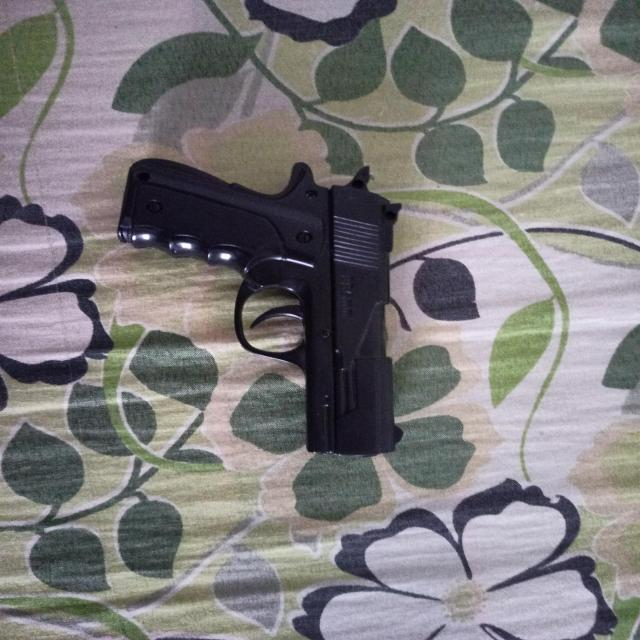handgun: (118, 157, 407, 460)
